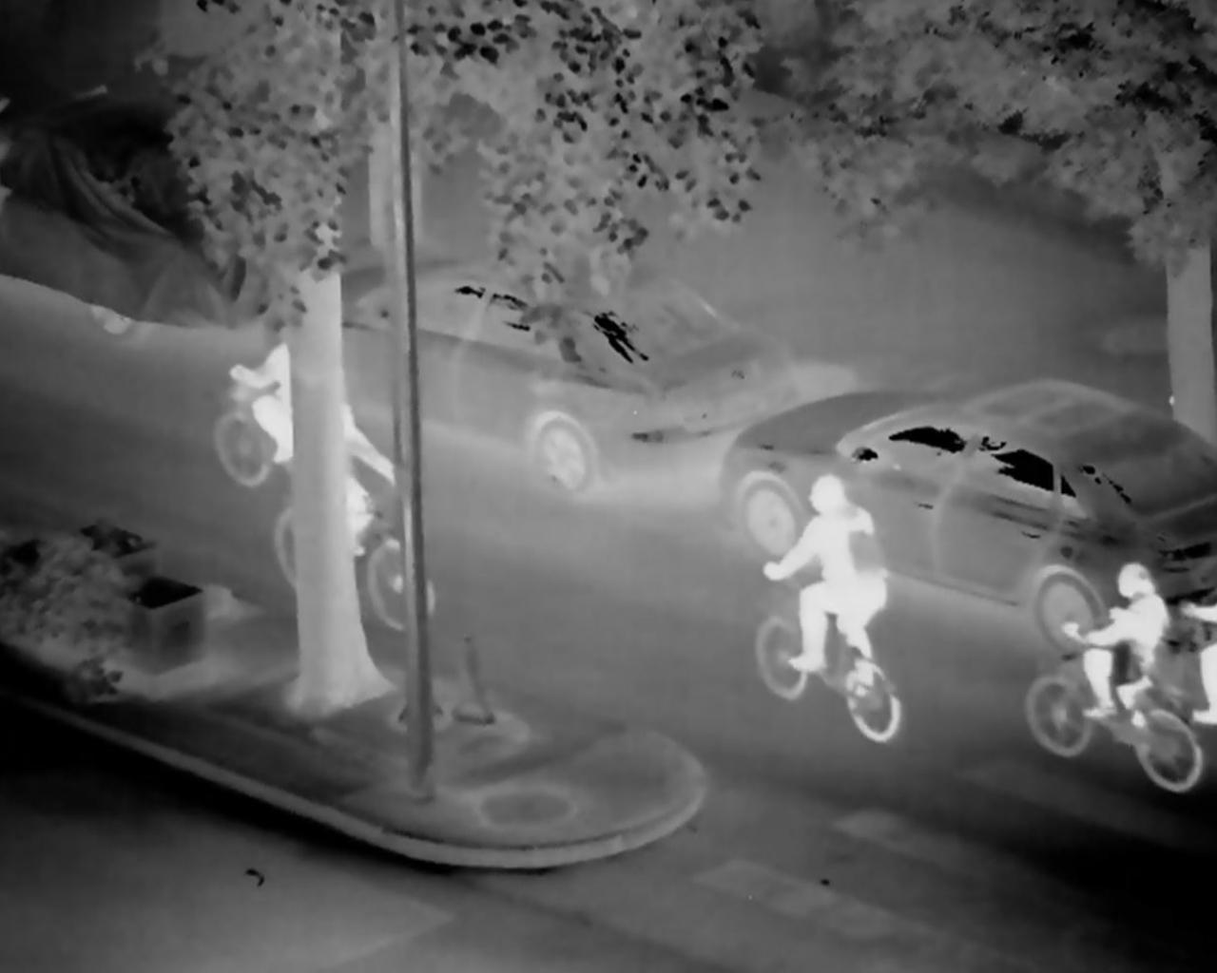person: (758, 475, 902, 717), (1053, 557, 1176, 733)
